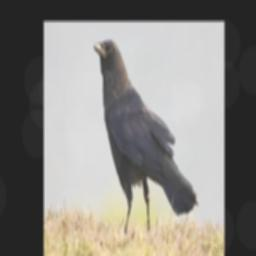Crow: (91, 38, 198, 235)
